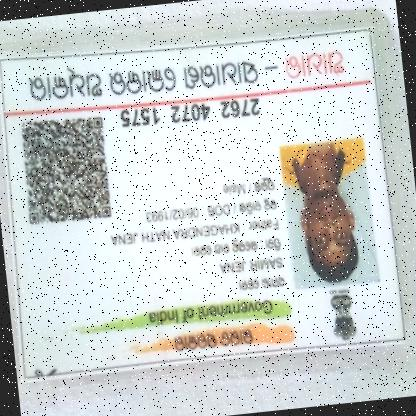aadhaar_card: (0, 4, 411, 399)
